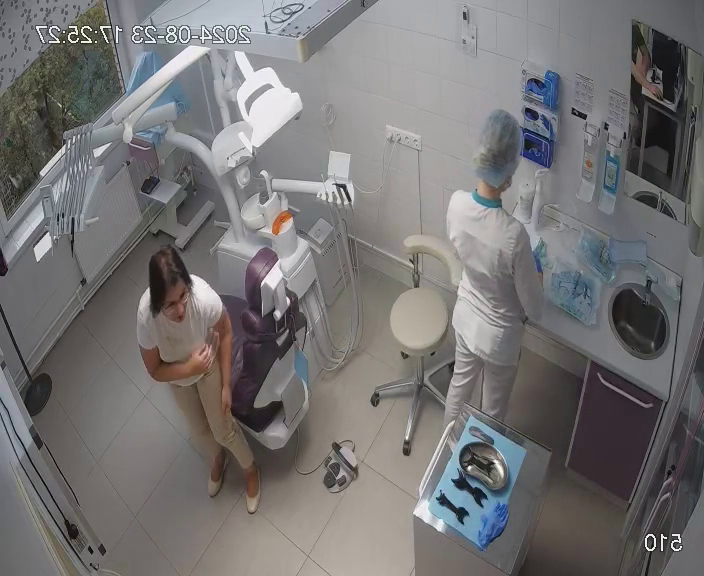Empty: (201, 235, 317, 464)
